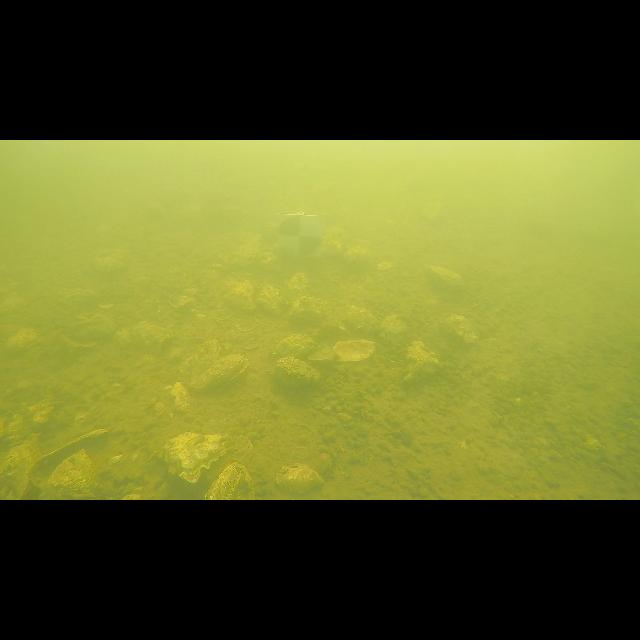Oyster-Closed: (164, 432, 232, 482), (43, 447, 103, 500), (0, 434, 41, 499), (185, 352, 246, 394), (275, 454, 332, 494), (177, 337, 223, 379), (205, 462, 255, 500), (116, 321, 174, 352), (402, 340, 441, 382), (274, 356, 319, 386), (273, 333, 318, 359), (426, 265, 464, 291), (224, 279, 255, 310), (289, 296, 322, 324), (344, 306, 379, 332), (445, 315, 478, 342), (92, 249, 126, 275), (379, 315, 406, 345), (284, 272, 310, 301), (259, 285, 282, 315)
Oyster-Open: (31, 428, 109, 477), (332, 339, 375, 361)
